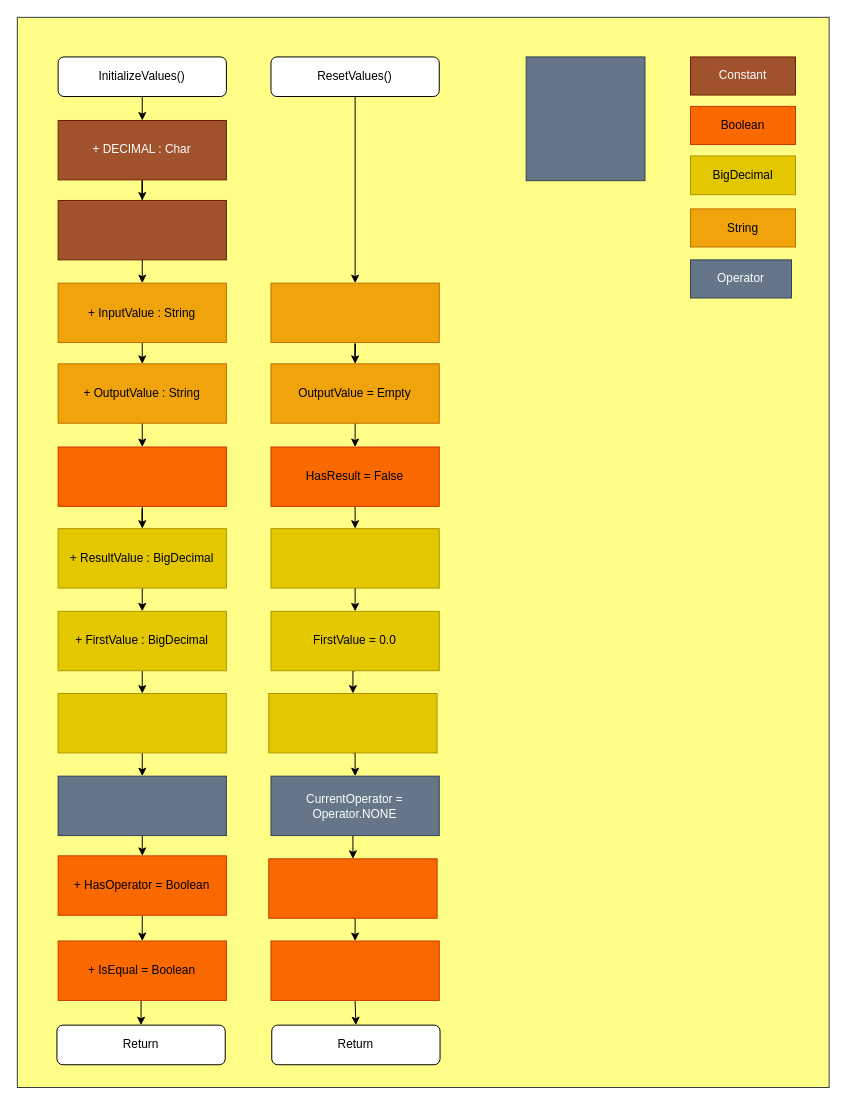
This 846x1105 diagram has some shape labels left out. Here are the shapes that lost their labels. From the top down, the centre of each, then its label:
[585,118]: Operator + PLUS + MINUS + MULTIPLY + DIVIDE + NONE
[141,229]: + MAX_OUTPUT_LENGTH: Integer
[354,312]: InputValue = Empty
[141,476]: + HasResult : Boolean
[354,558]: ResultValue = 0.0
[141,723]: + SecondValue : BigDecimal
[352,723]: SecondValue = 0.0
[141,805]: + CurrentOperator : Operator
[352,888]: HasOperator = False
[354,970]: IsEqual = False
